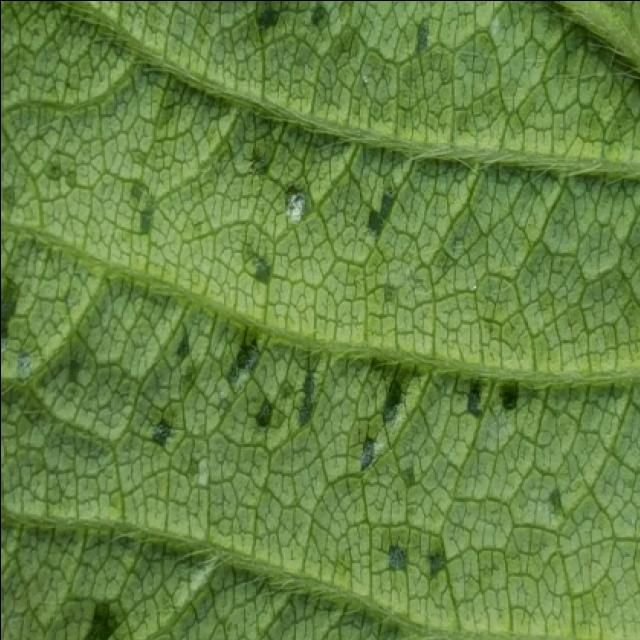Angular Leafspot: (2, 2, 578, 640)
